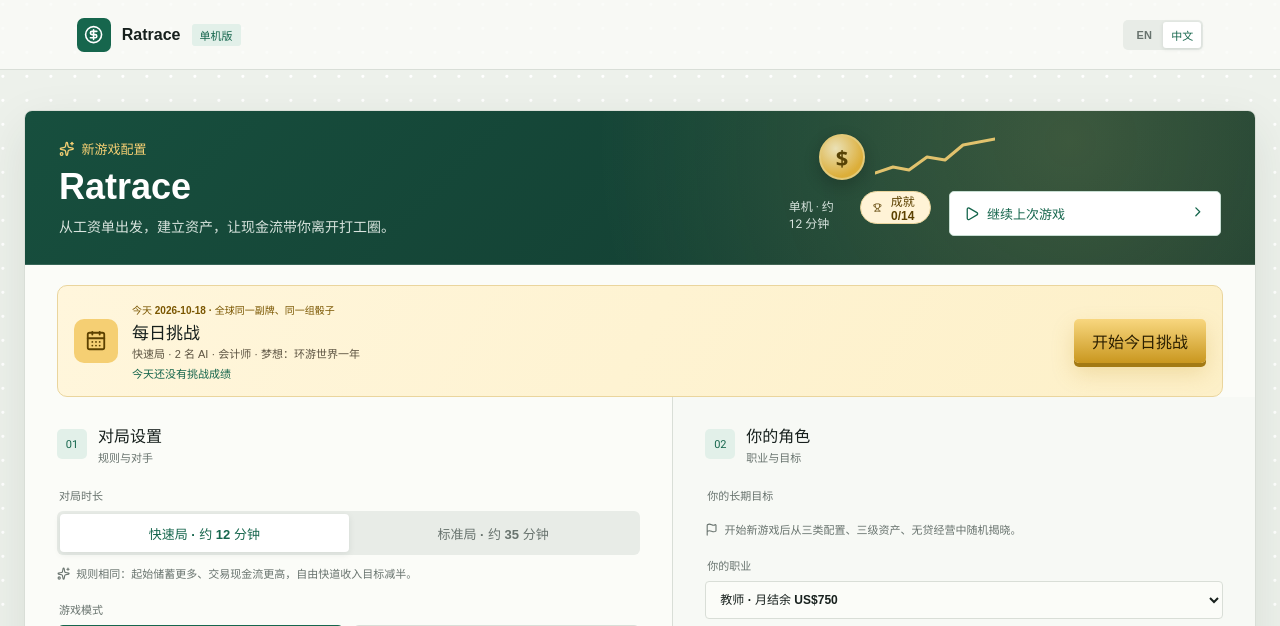
Scenario: cashflow app › warns how close an opponent in the Freedom Lane is to winning
Click the button "继续上次游戏". click: (1026, 215)
box: [948,191,1221,236]
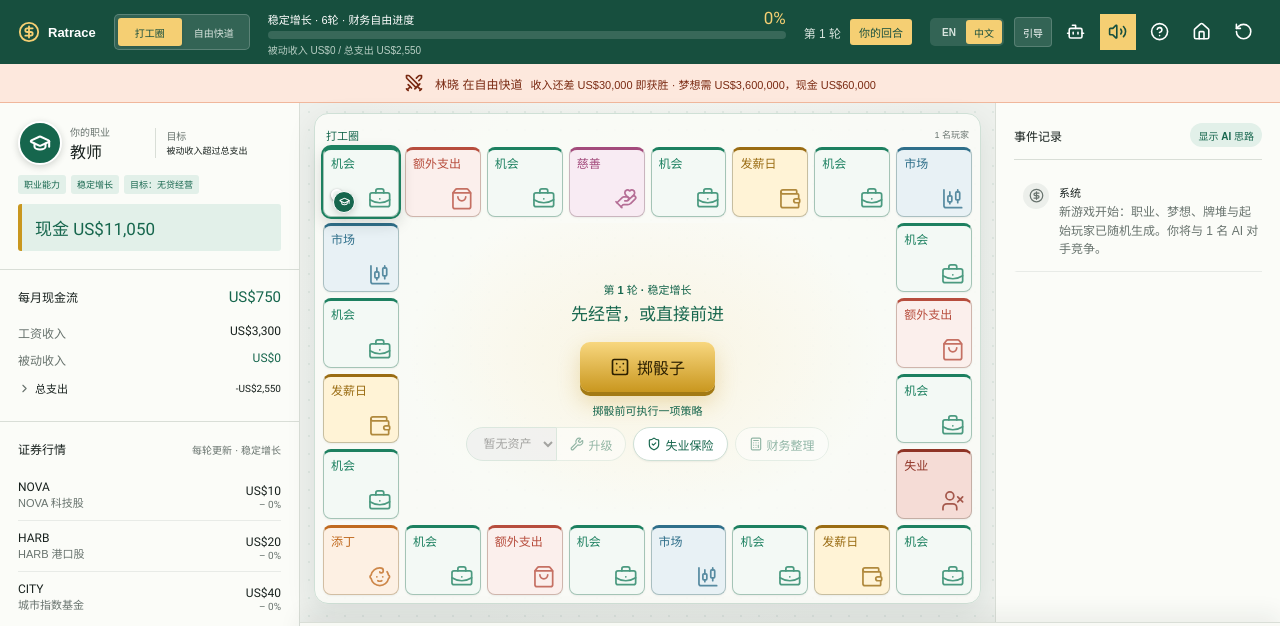
Expected: the message named "对手冲刺提醒" shows "在自由快道", [435,78,522,92]
Expected: the message named "对手冲刺提醒" shows "收入还差 US$30,000 即获胜", [530,78,669,90]
